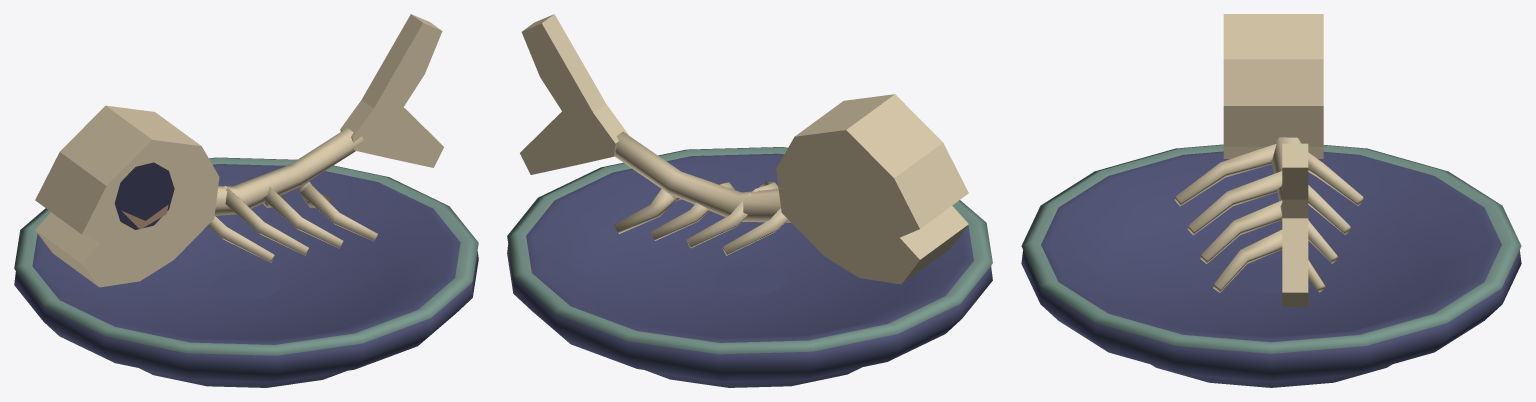
The model's file is fish_bone.glb.
3 renders of one model, left to right at view 1: azimuth 30°, elevation 25°; view 2: azimuth 150°, elevation 25°; view 3: azimuth 270°, elevation 25°, orthographic. The views are drawn at different scales.
Visible parts, largest first — view 1: fish_bone; view 2: fish_bone; view 3: fish_bone.
Part boxes in pixels (<box>): fish_bone: <box>14,14,478,387</box>; fish_bone: <box>507,14,992,387</box>; fish_bone: <box>1021,14,1521,387</box>.
Bounding box in the file's own units: 0.23 × 0.137 × 0.23.
